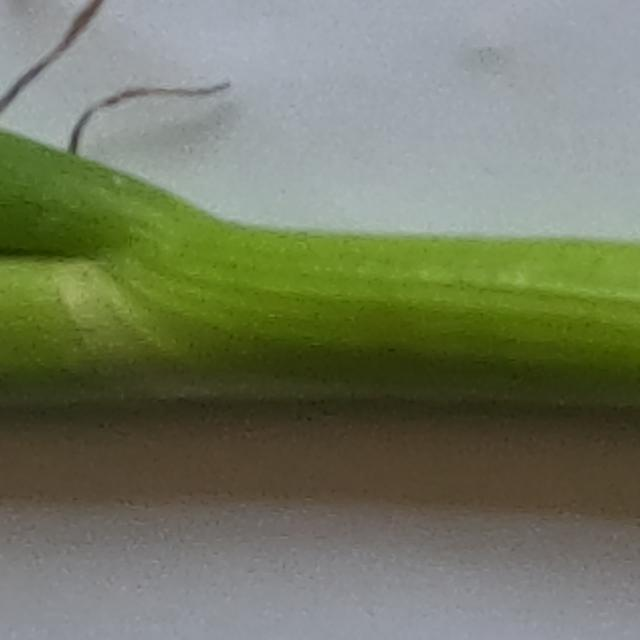green_onion: (0, 122, 640, 433)
